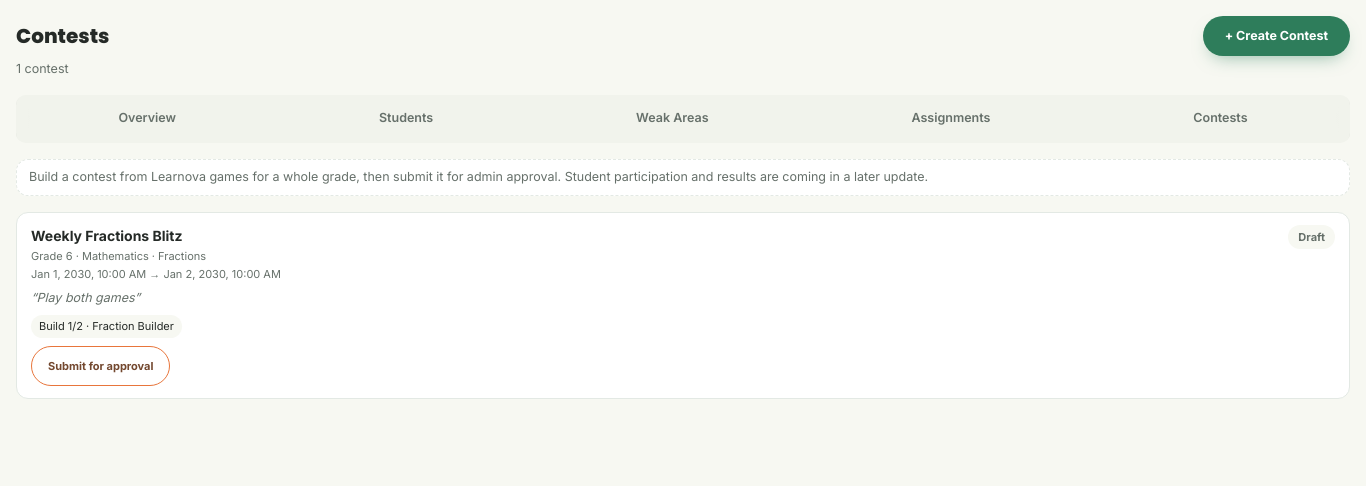
Test: TeacherContests list › a failed submit shows an inline error and keeps the list
expect the text "Weekly Fractions Blitz" is shown: met, box x1=31 y1=226 x2=182 y2=244
What coordinates should you click on to do the following:
click the button "Submit for approval"
I would click on:
 (101, 366)
Its box is x1=31 y1=346 x2=170 y2=386.
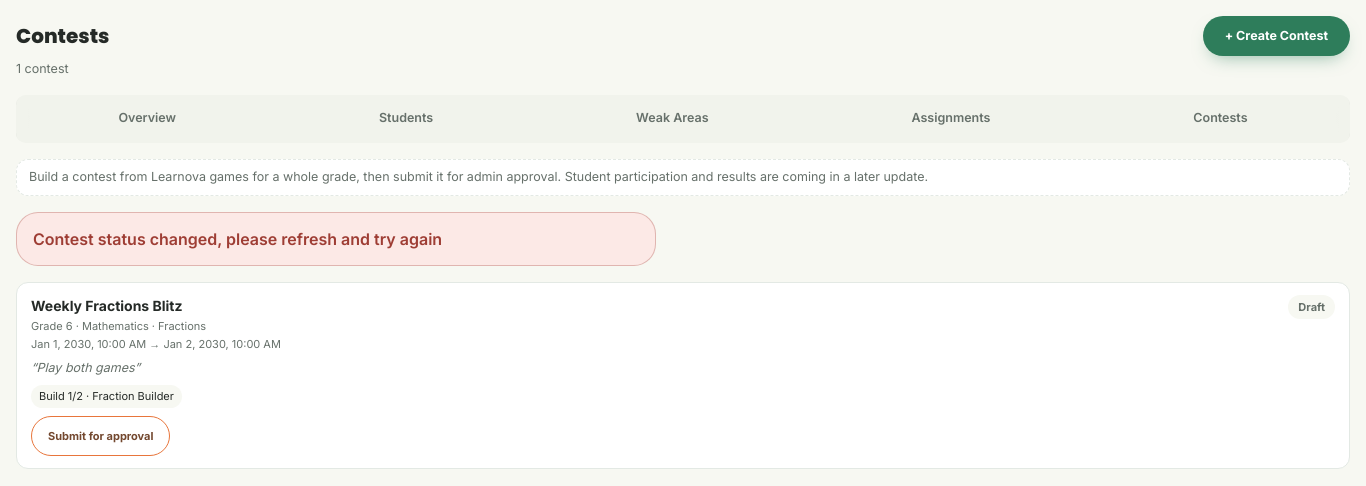
expect the text "Weekly Fractions Blitz" is shown: met, box x1=31 y1=296 x2=182 y2=314
expect the text "Contest status changed, please refresh and try again" is shown: met, box x1=16 y1=212 x2=656 y2=266
